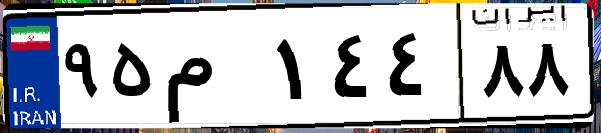1: (270, 28, 330, 110)
4: (385, 28, 445, 110), (330, 28, 385, 110)
5: (110, 28, 158, 98)
8: (475, 38, 525, 113), (525, 38, 570, 115)
9: (57, 26, 110, 100)
م: (158, 20, 270, 120)
